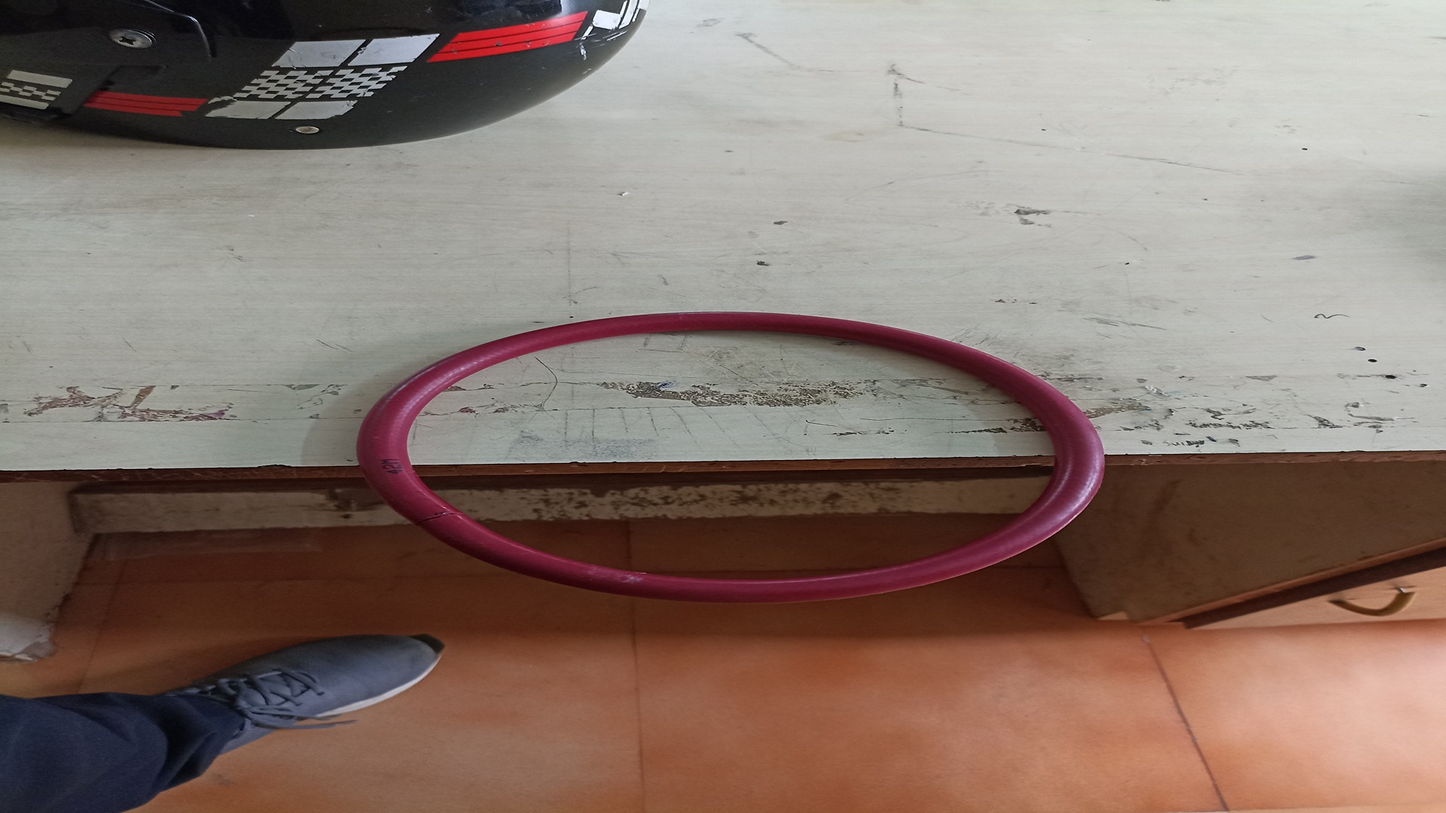Red ring: (362, 312, 1109, 608)
